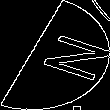N_NW: (12, 27, 98, 83)
